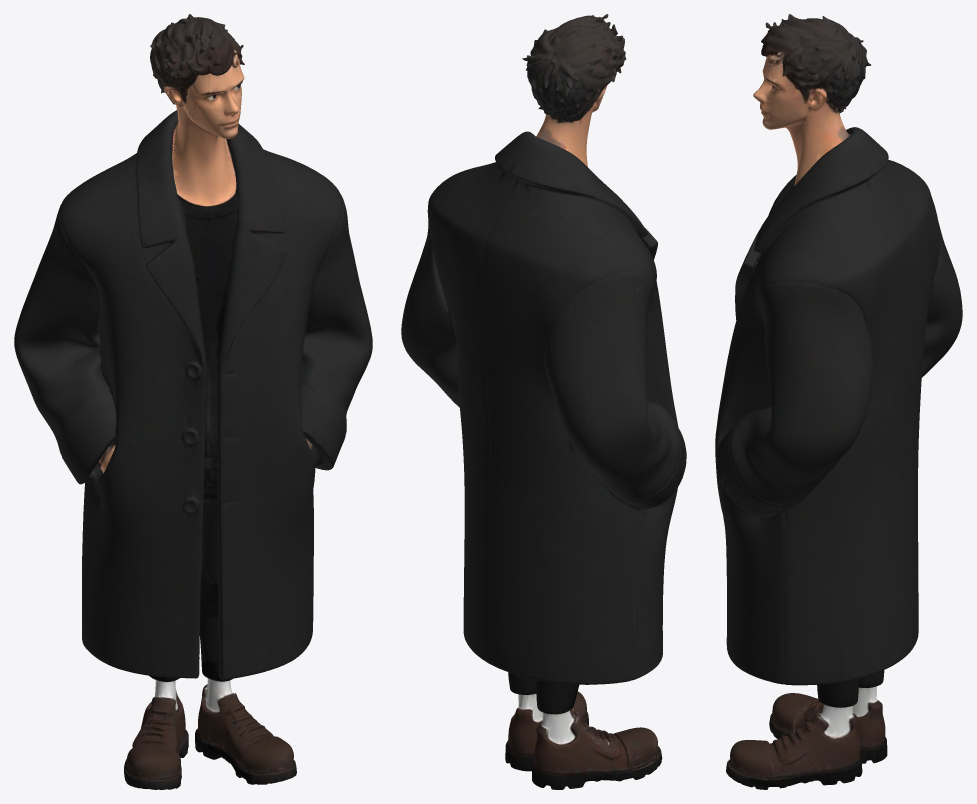
3 views of the same model, side by side, from view 1: azimuth 30°, elevation 25°; view 2: azimuth 150°, elevation 25°; view 3: azimuth 270°, elevation 25° (orthographic).
Size of the model in its own units: 0.7767 by 1.9 by 0.5774.
Materials: 1 (1 with a texture image).
